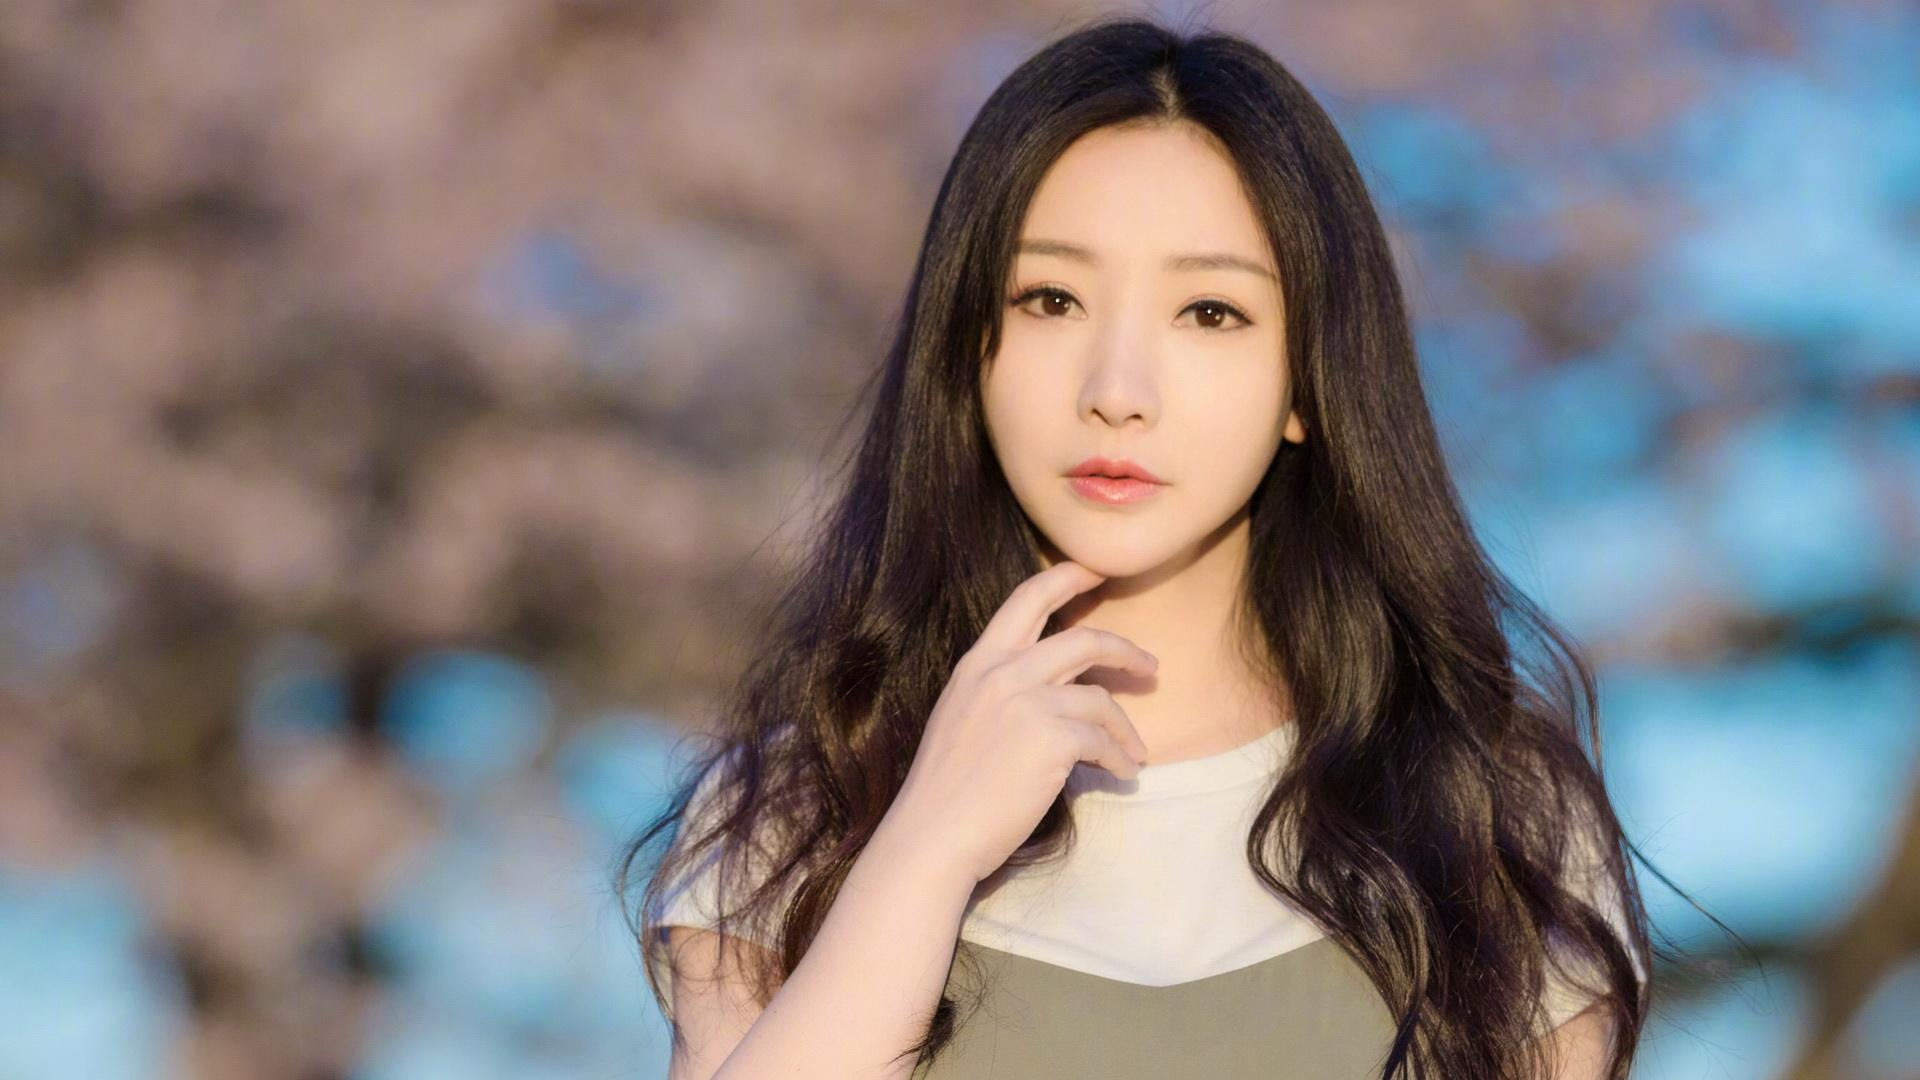person: (736, 23, 1622, 998)
